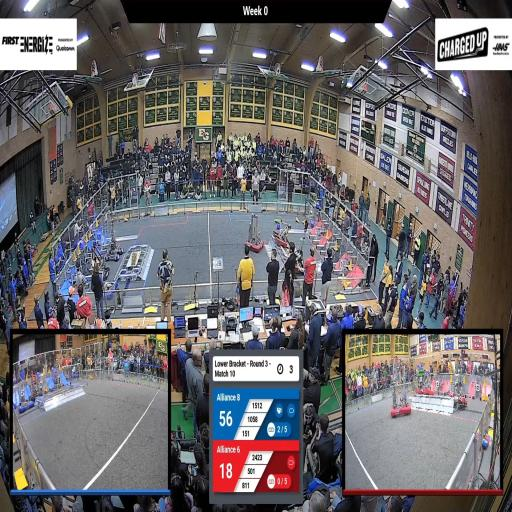robot: (241, 213, 265, 254), (103, 222, 125, 265), (288, 239, 310, 279), (90, 244, 110, 284), (272, 216, 292, 248), (97, 272, 118, 300)
